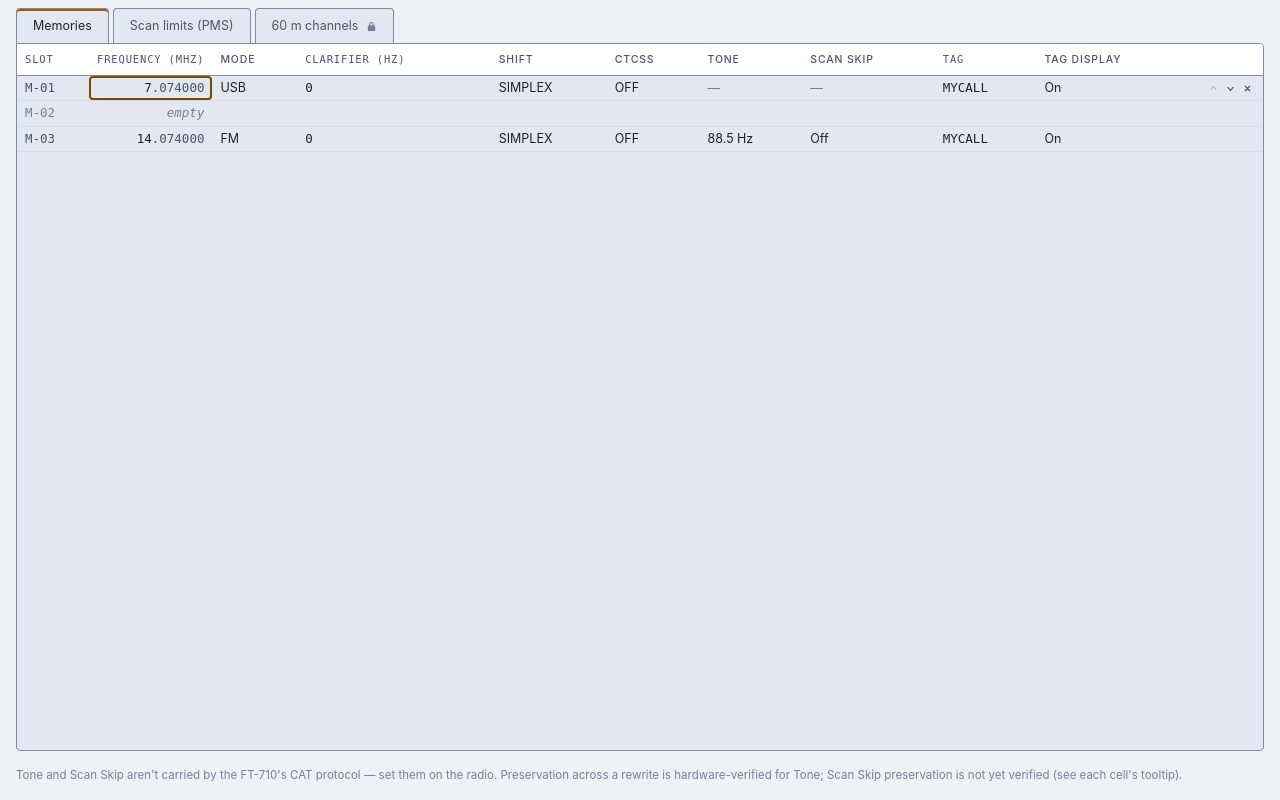
Test: edit queue — out-of-order regression (Fix 3, adjudicated MED, Codex M6 #3) › two rapid edits to different fields of the same slot both survive, even with deliberately delayed/out-of-order mock responses
Press Enter in the cell "7.074000", box [89,76,212,101]
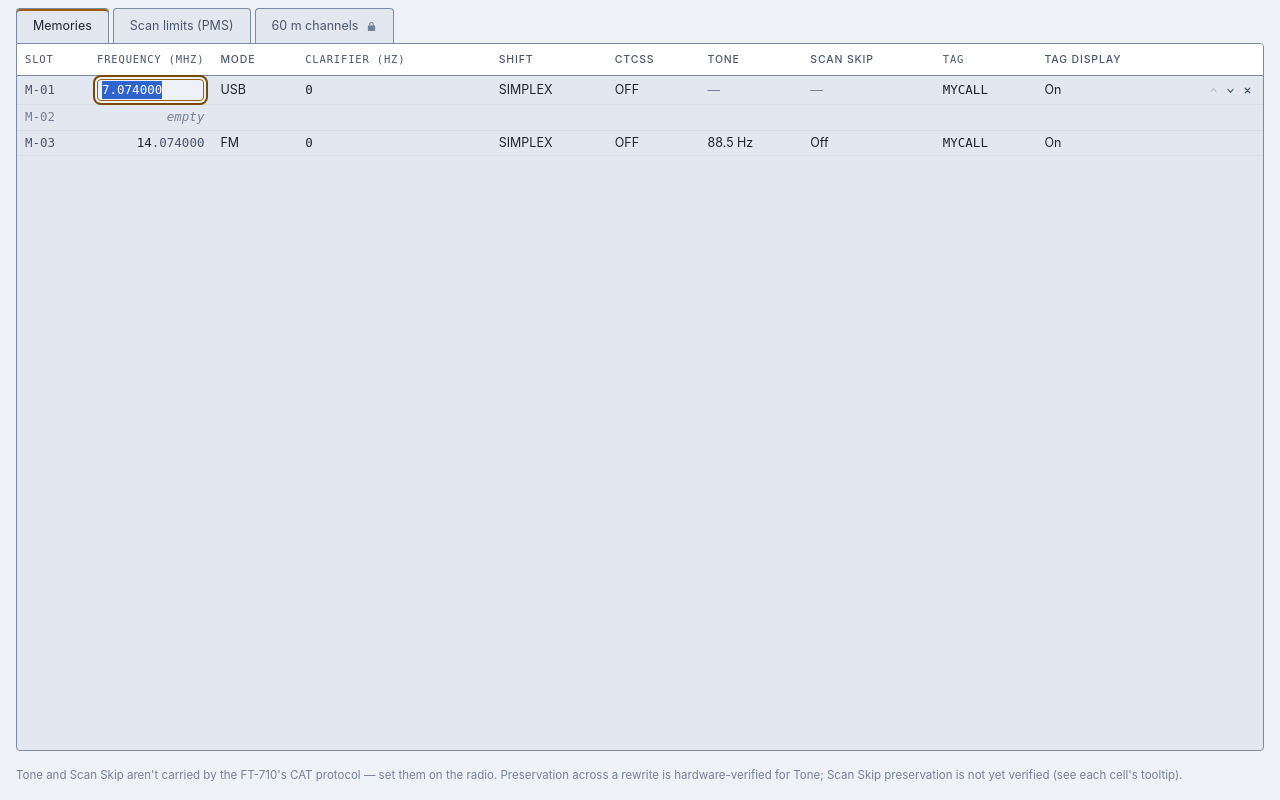
Replace the text in the field with "7.1" at (151, 90), box [97,79,204,101]
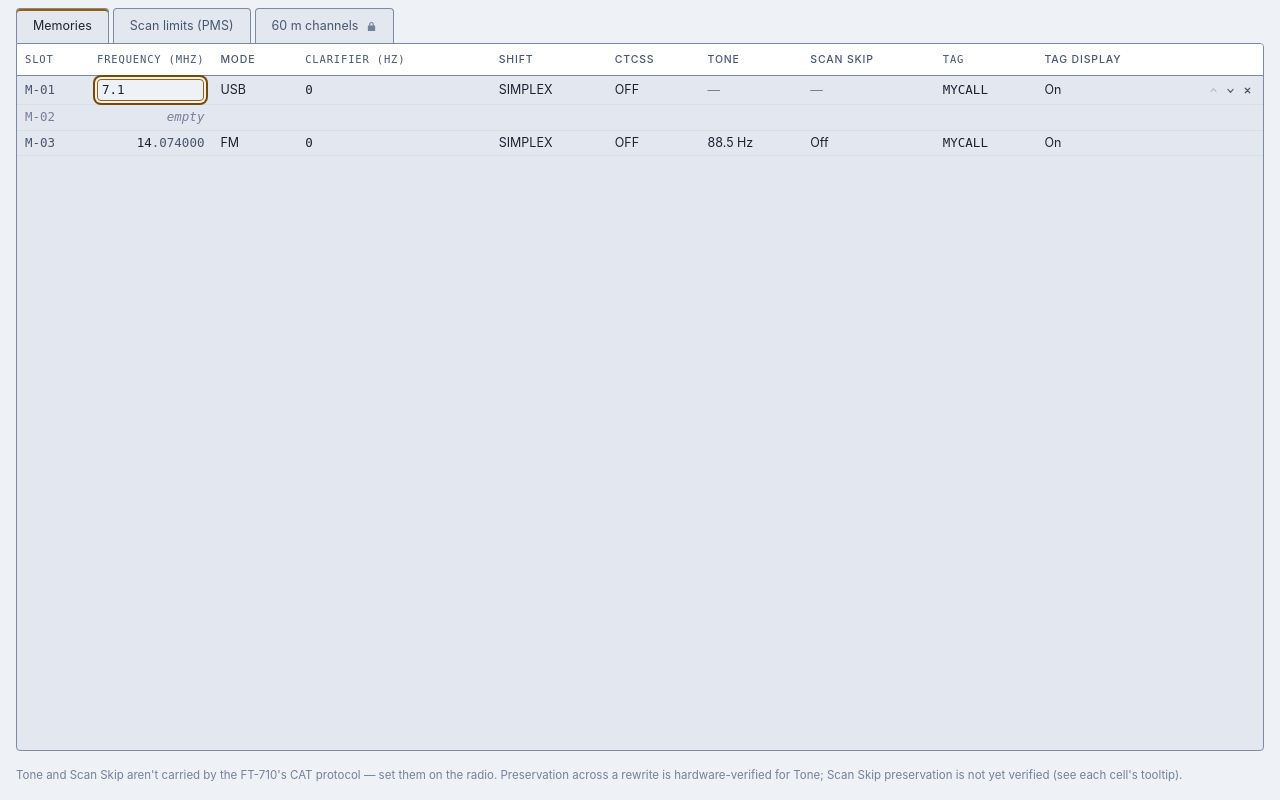
Press Enter in the field, box [97,79,204,101]
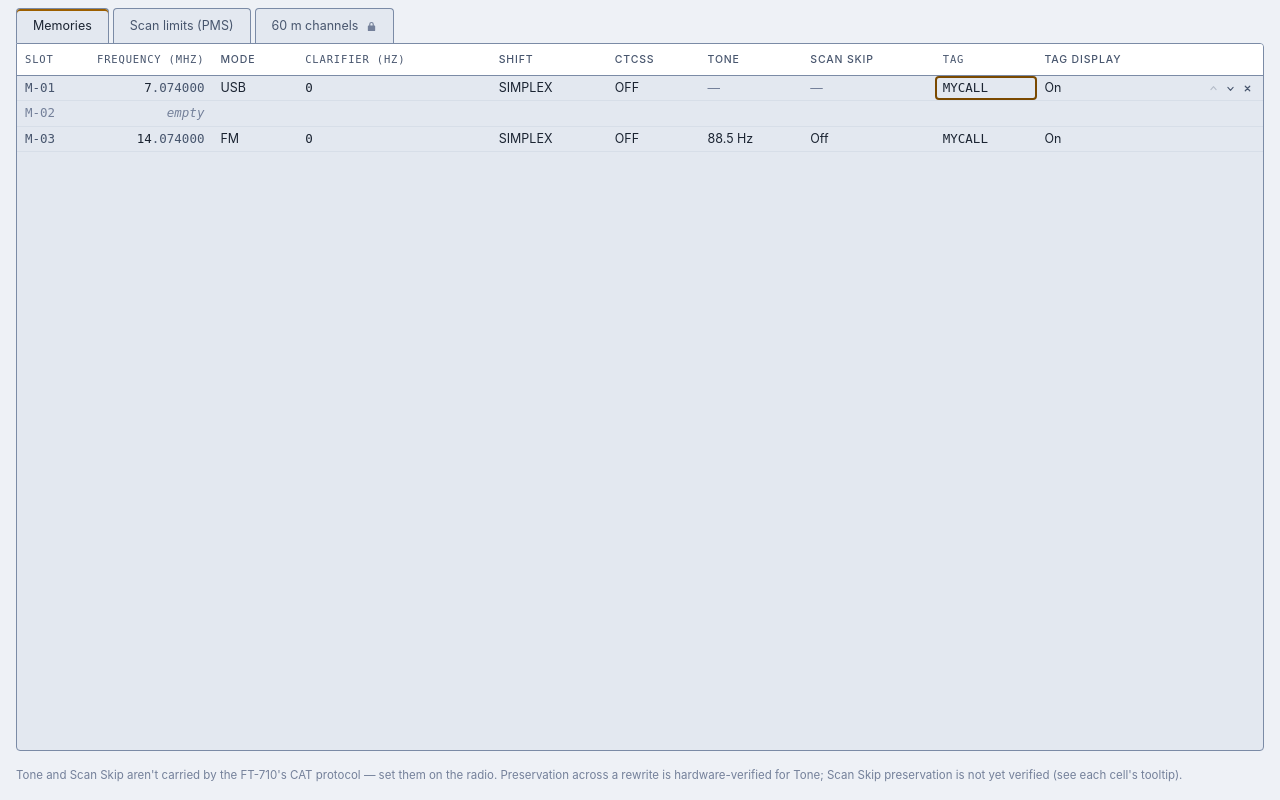
Press Enter in the cell "MYCALL" in the row of "M-01", box [935,76,1037,101]
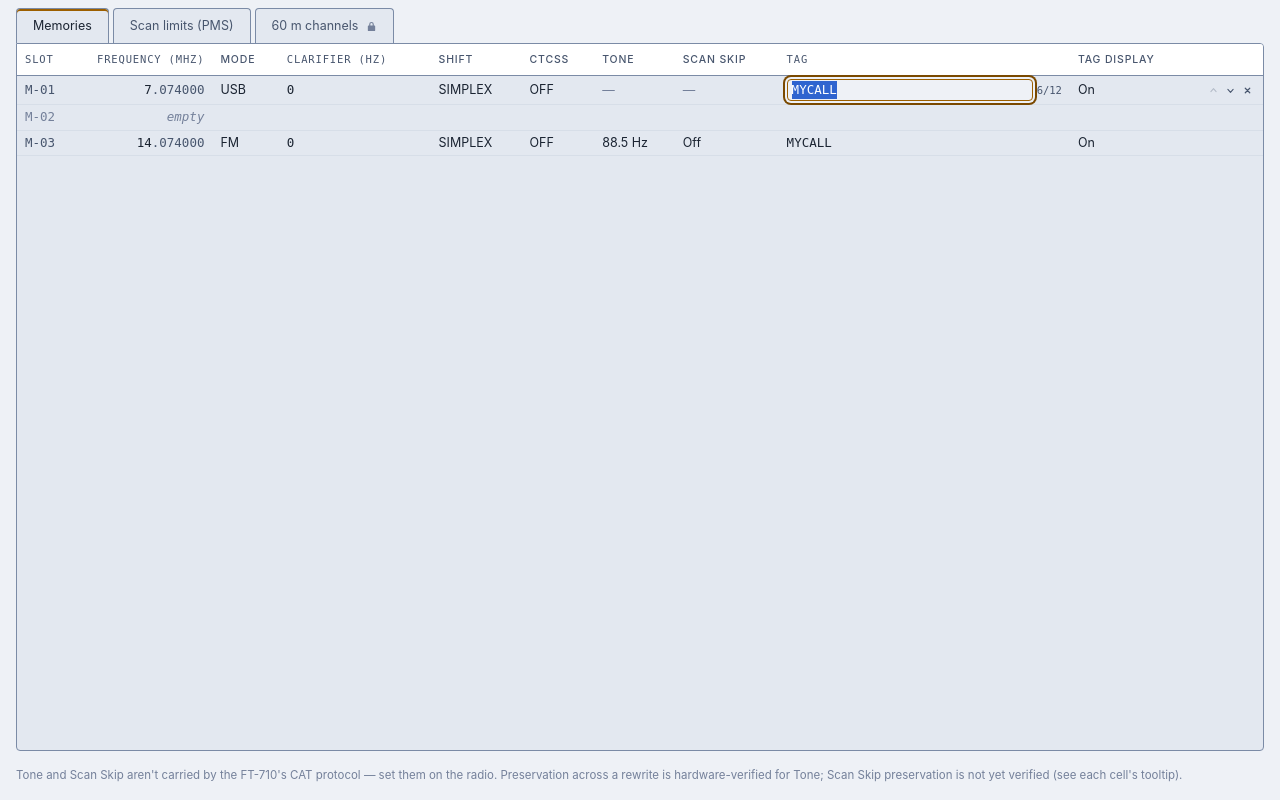
Replace the text in the field with "NEWCALL" at (910, 90), box [787,79,1033,101]
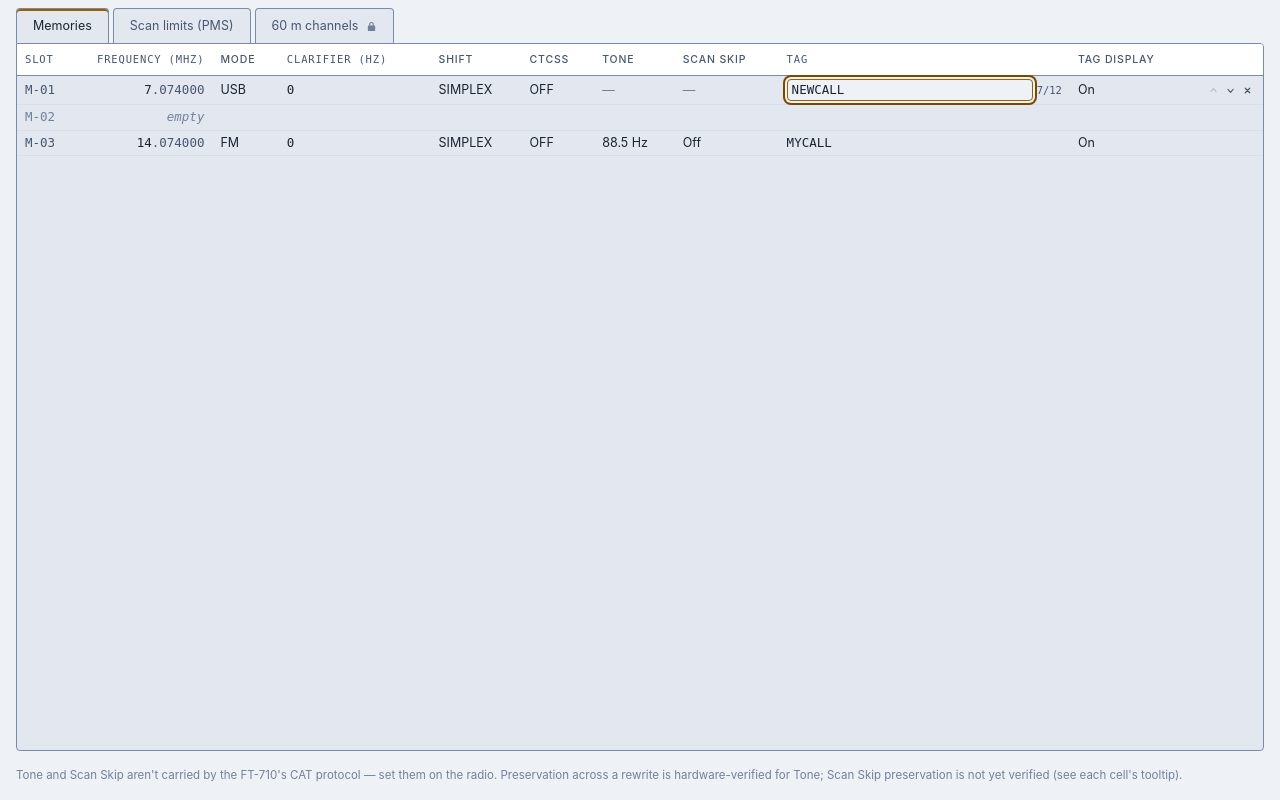
Press Enter in the field, box [787,79,1033,101]
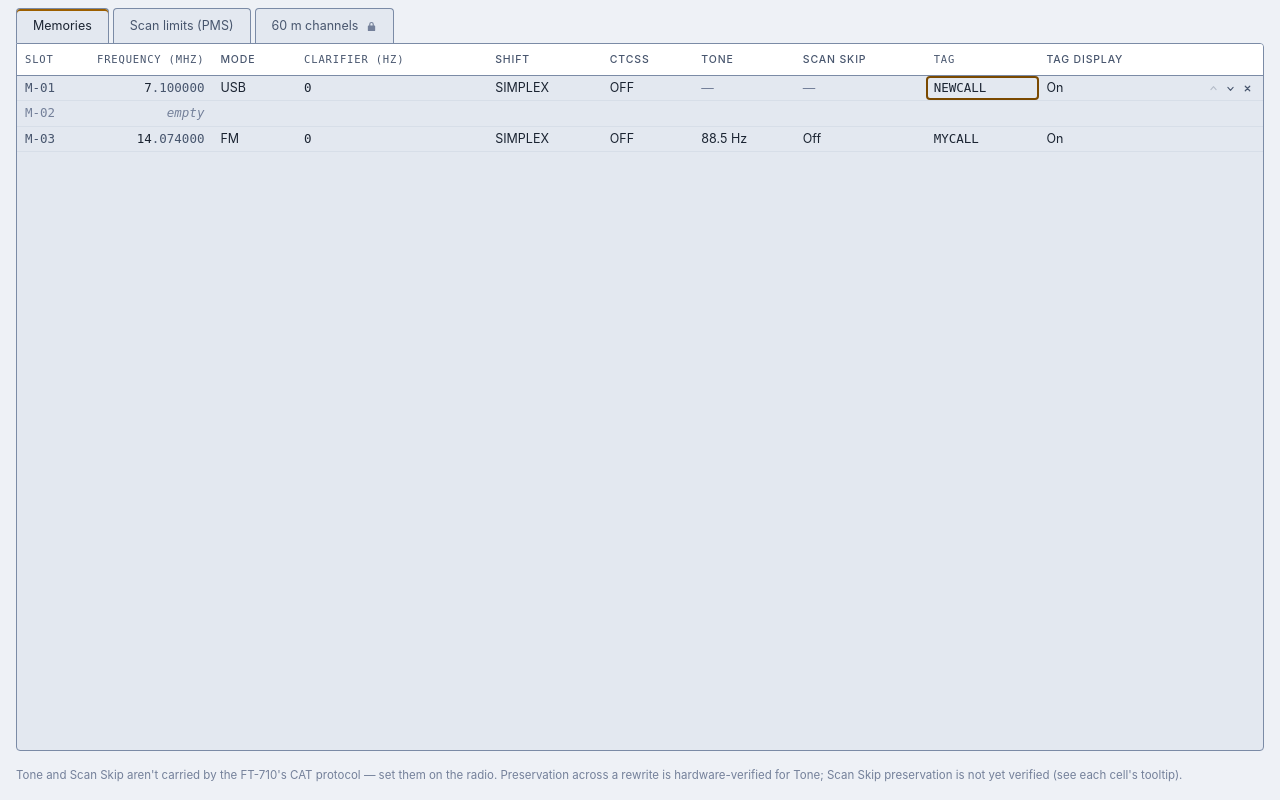
Now the cell "NEWCALL" is shown, box [926,76,1038,101]
